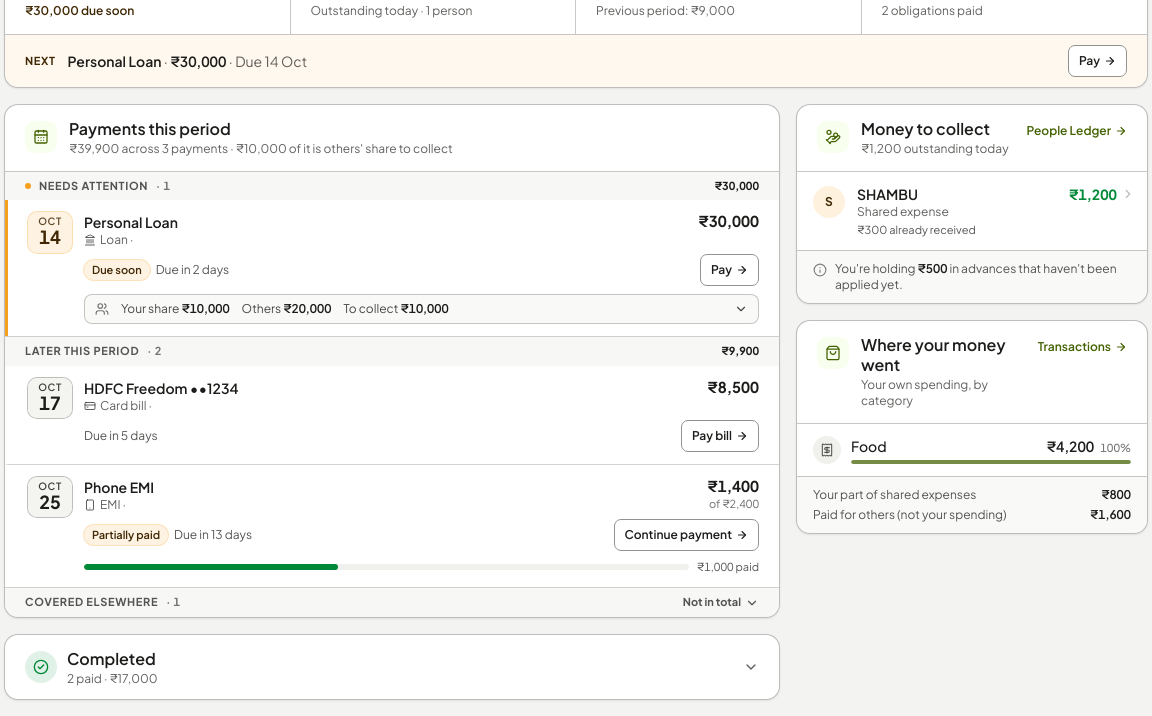
Test: MyMoneyWorkspace › collapses Completed by default
This screenshot has width=1152, height=716.
(page scrolled)
expect the text "SBI Card" is not shown: met
What coordinates should you click on to do the following:
click the button "Completed 2 paid · ₹17,000"
I would click on:
 (41, 667)
Its box is [5,635,779,699].
(page scrolled)
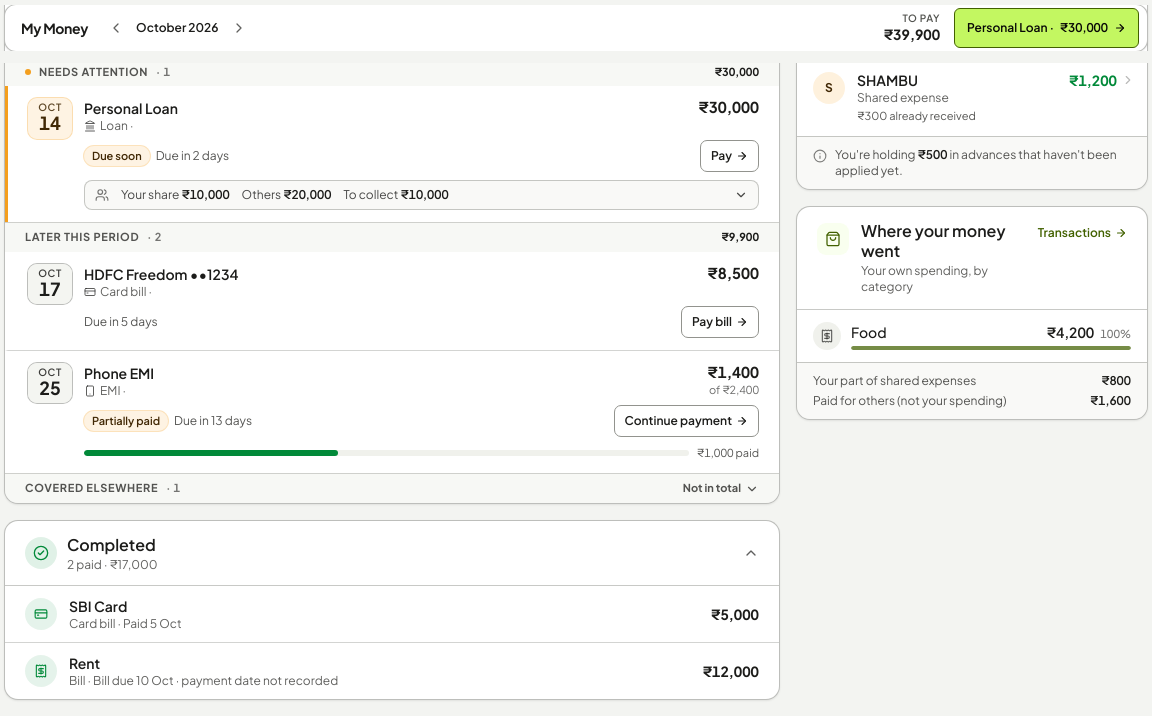
expect the text "SBI Card" is shown: met, box [69,597,127,615]
expect the text "Card bill · Paid 5 Oct" is shown: met, box [69,616,182,631]
expect the text "Bill · Bill due 10 Oct · payment date not recorded" is shown: met, box [69,673,338,688]
